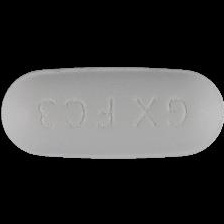16590-061: (0, 0, 224, 224)
